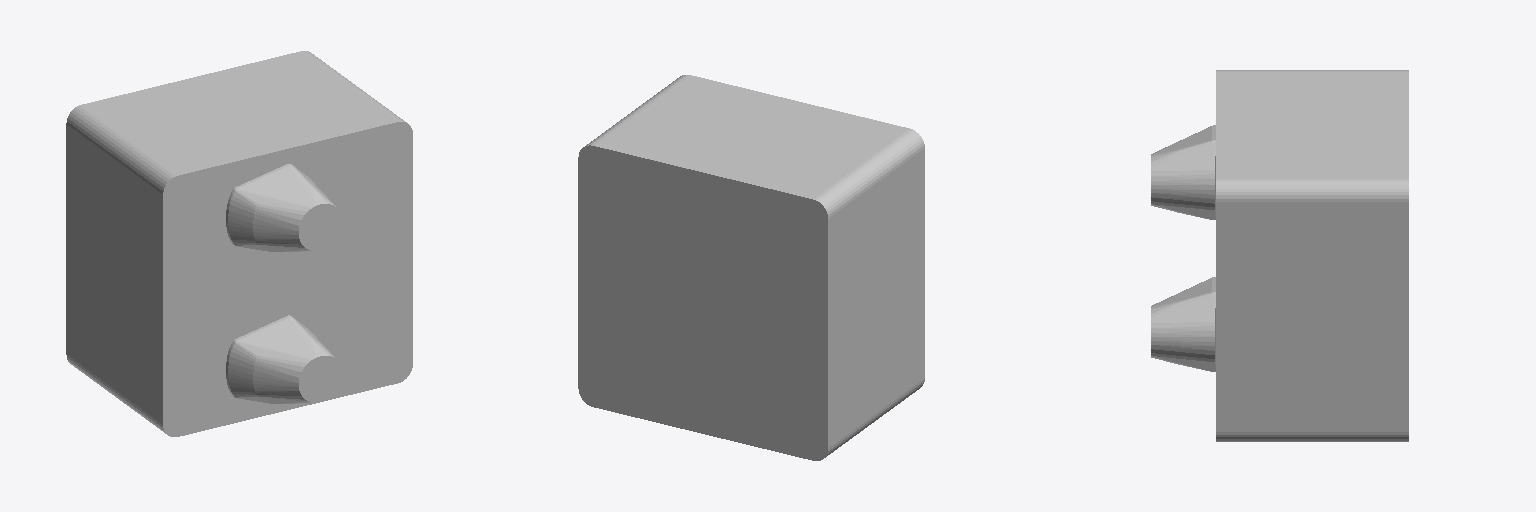
Rendered from mmp_panda_two_arm_base.obj.
The picture shows the model from 3 angles: view 1: azimuth 30°, elevation 25°; view 2: azimuth 150°, elevation 25°; view 3: azimuth 270°, elevation 25°; orthographic projection.
Parts seen in each view (by area): view 1: Cube, Link0.001, Link0; view 2: Cube; view 3: Cube, Link0.001, Link0.
Part boxes in pixels (left/top/right/bottom): Cube: left=66, top=51, right=412, bottom=436; Link0.001: left=226, top=315, right=342, bottom=403; Link0: left=226, top=164, right=342, bottom=251; Cube: left=578, top=75, right=924, bottom=460; Cube: left=1216, top=70, right=1408, bottom=441; Link0.001: left=1151, top=277, right=1215, bottom=371; Link0: left=1151, top=125, right=1215, bottom=219.
Size of the model in its own units: 0.62 by 0.62 by 0.556.